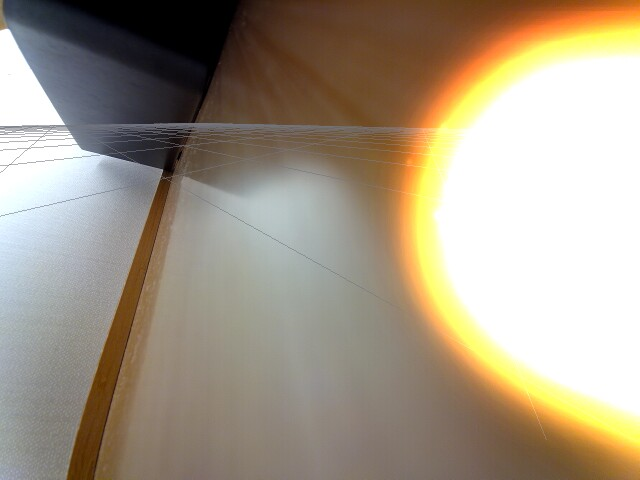firebig: (382, 22, 638, 450)
